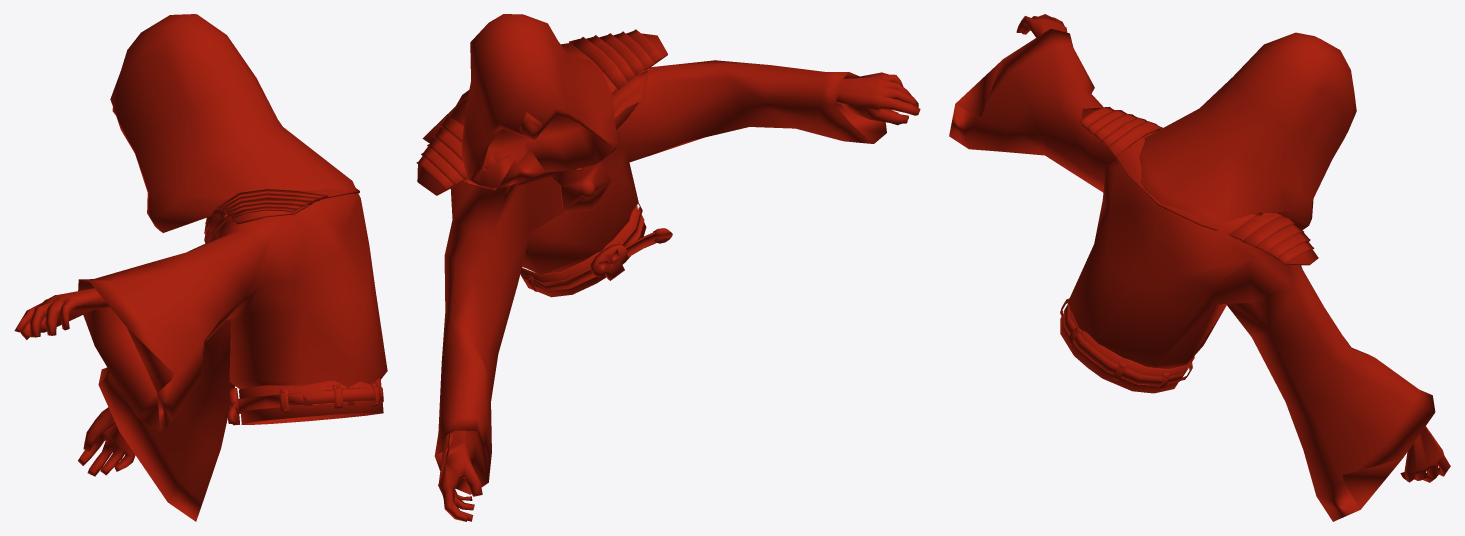
File: top_000079.obj
The picture shows the model from 3 angles, left to right: view 1: azimuth 30°, elevation 25°; view 2: azimuth 150°, elevation 25°; view 3: azimuth 270°, elevation 25°; orthographic projection. The views are drawn at different scales.
Visible parts, largest first — view 1: LowPoly_Warlock.000_Plane.005; view 2: LowPoly_Warlock.000_Plane.005; view 3: LowPoly_Warlock.000_Plane.005.
Boxes of the visible parts, x1=… form: LowPoly_Warlock.000_Plane.005: x1=14, y1=14, x2=387, y2=521; LowPoly_Warlock.000_Plane.005: x1=416, y1=14, x2=920, y2=521; LowPoly_Warlock.000_Plane.005: x1=949, y1=14, x2=1450, y2=521.
Size of the model in its own units: 1.26 by 1.45 by 1.4.
